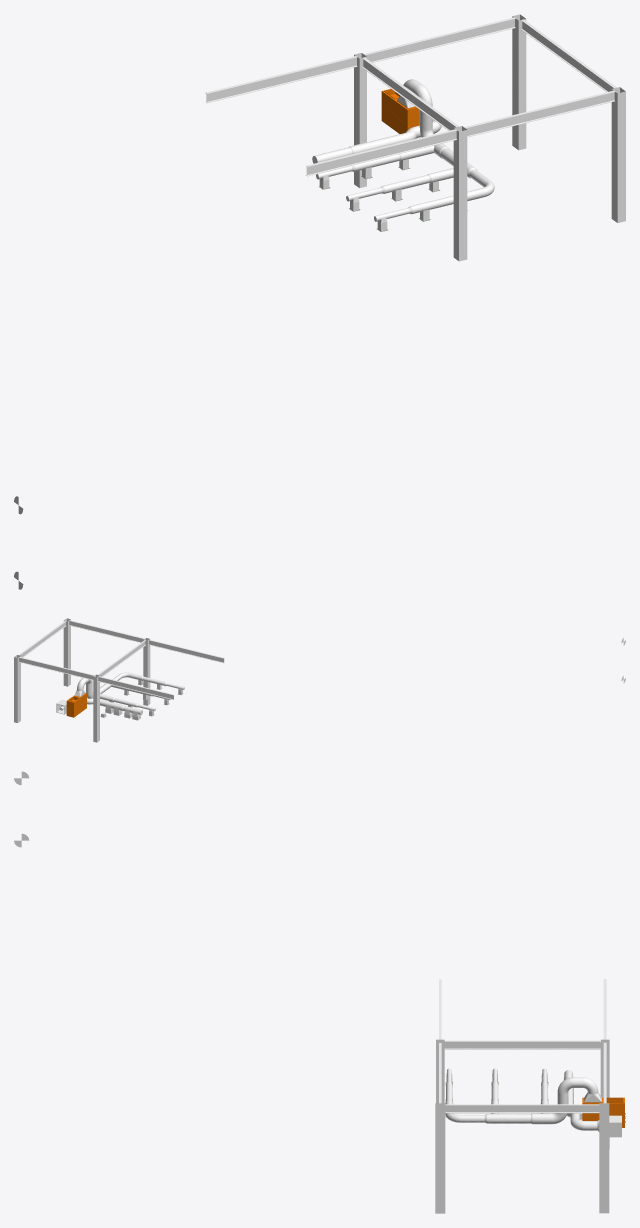
Rendered from 3dExport.glb.
3 renders of one model, top to bottom at view 1: azimuth 30°, elevation 25°; view 2: azimuth 150°, elevation 25°; view 3: azimuth 270°, elevation 25°, orthographic. The views are drawn at different scales.
Visible parts, largest first — view 1: ImportInstance Estructura_proyectada.dwg <1663975 location <, FamilyInstance Mechanical Equipment C4_UMA_Petrobras <166390; view 2: ImportInstance Estructura_proyectada.dwg <1663975 location <, FamilyInstance Mechanical Equipment C4_UMA_Petrobras <166390; view 3: ImportInstance Estructura_proyectada.dwg <1663975 location <.
Boxes of the visible parts, box(x1,y1,x2,y2) form: ImportInstance Estructura_proyectada.dwg <1663975 location <: box(205, 14, 625, 261); FamilyInstance Mechanical Equipment C4_UMA_Petrobras <166390: box(381, 89, 419, 133); ImportInstance Estructura_proyectada.dwg <1663975 location <: box(14, 618, 224, 742); FamilyInstance Mechanical Equipment C4_UMA_Petrobras <166390: box(66, 693, 86, 717); ImportInstance Estructura_proyectada.dwg <1663975 location <: box(435, 979, 609, 1213).
Bounding box in the file's own units: 42.86 × 6.19 × 32.09.
